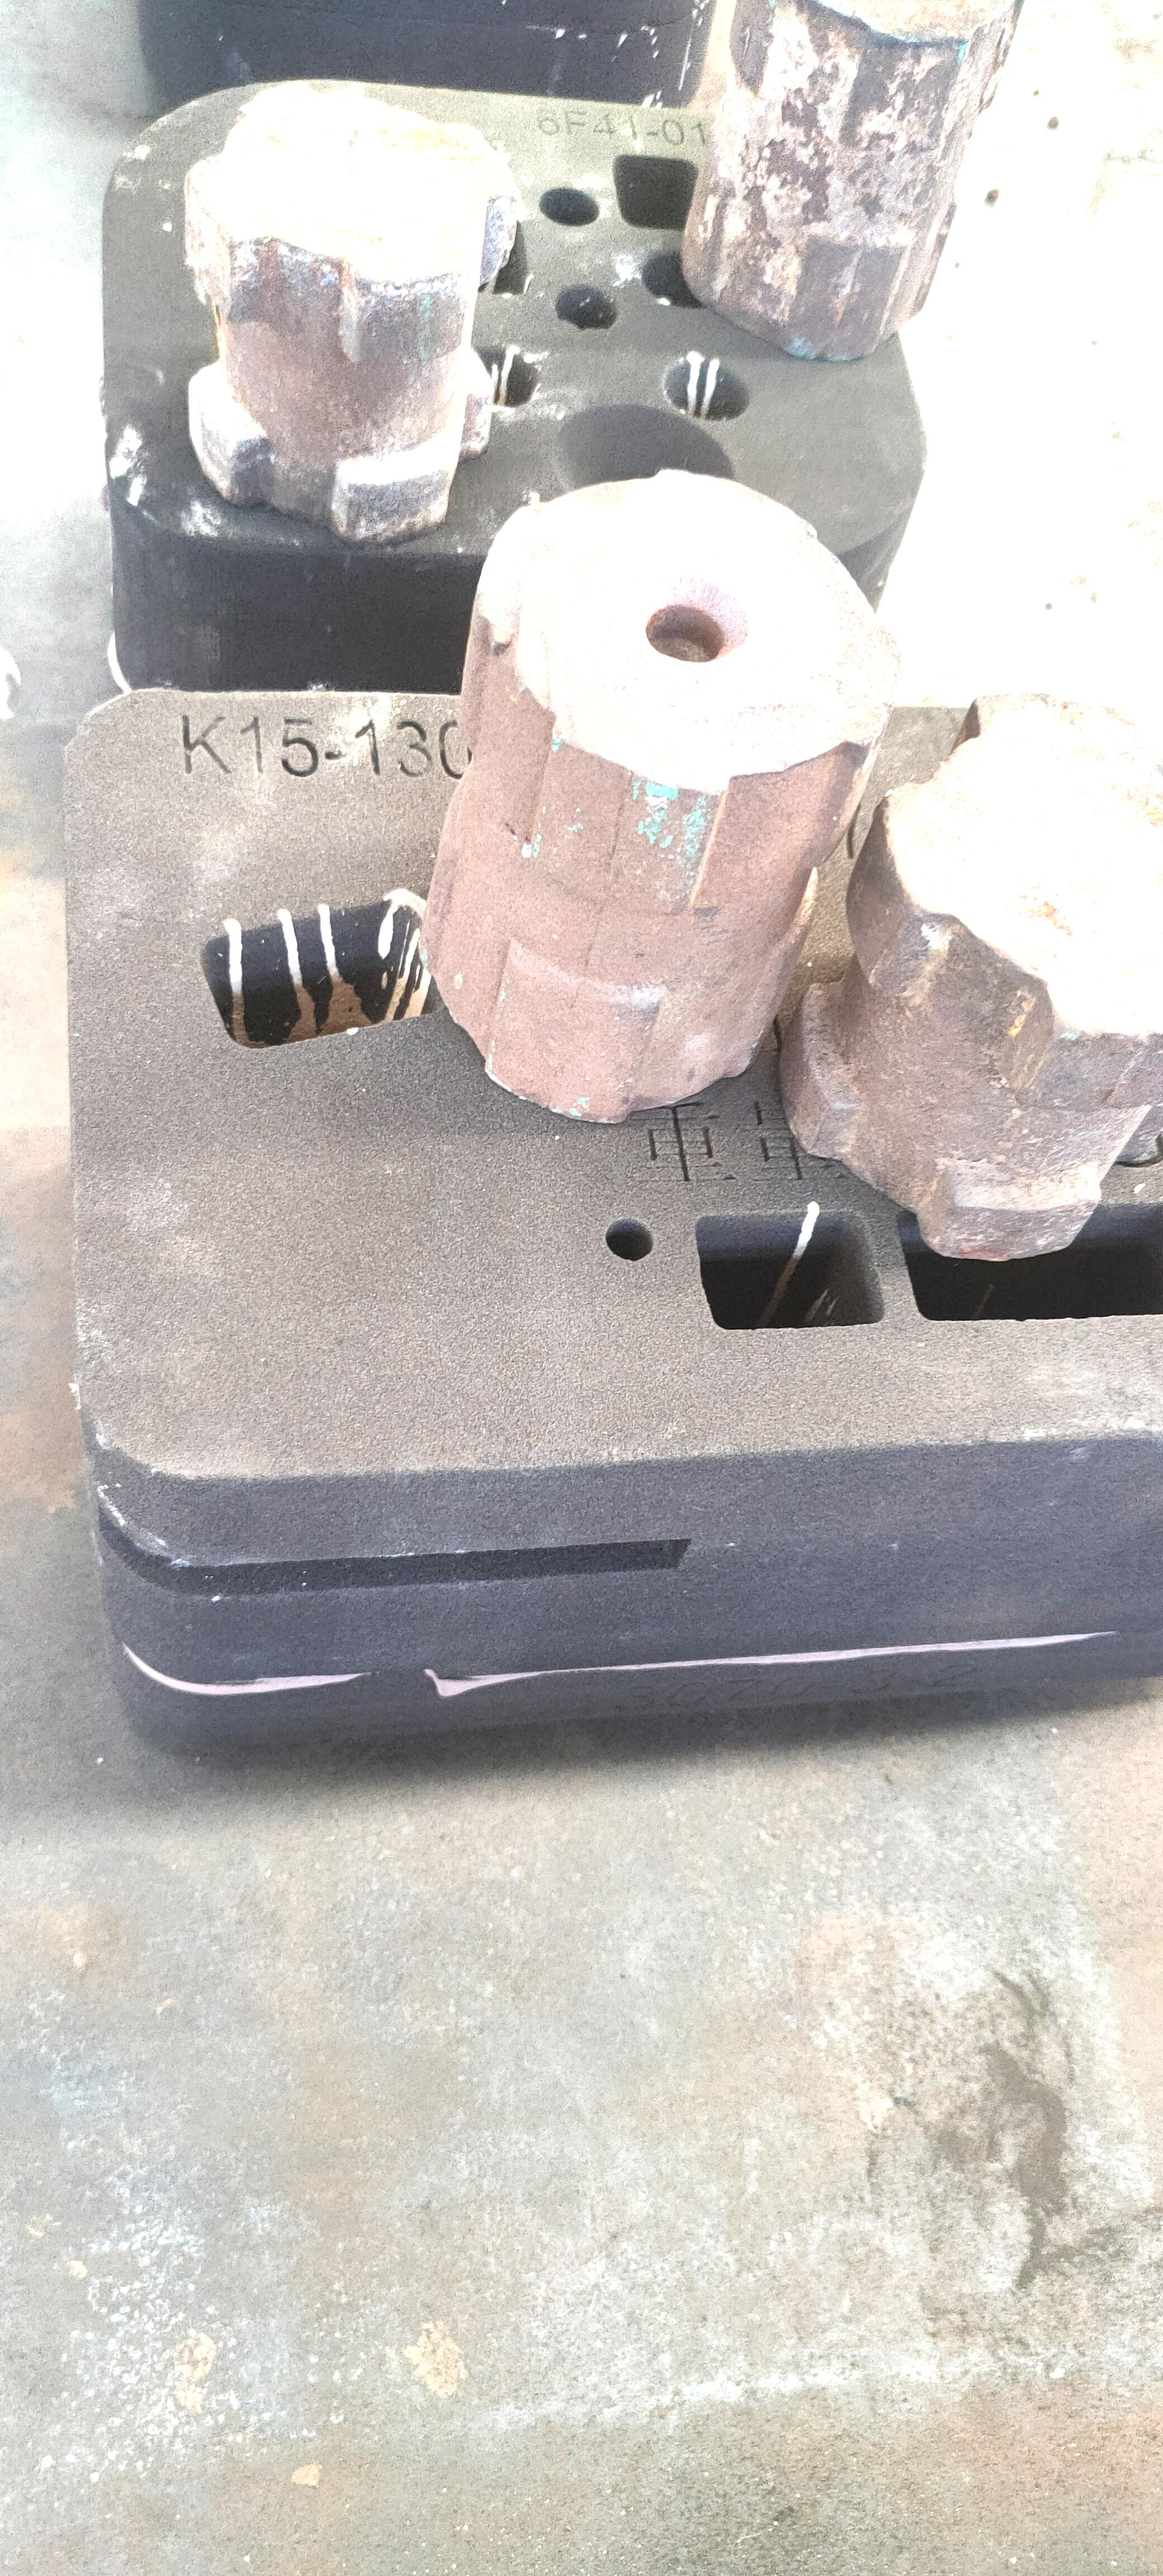pouring hole: (552, 402, 736, 521)
